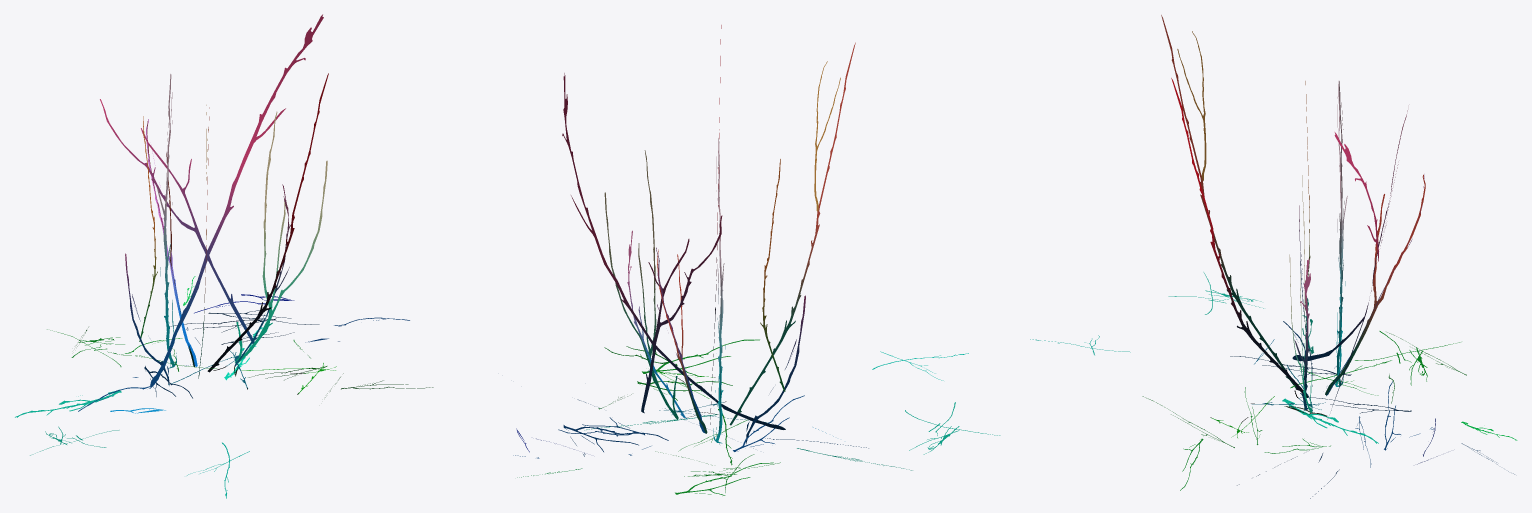
Rendered from Dead_Shrubs_vdknafgha_Raw_vdknafgha_VarD_LOD0.fbx.
3 renders of one model, left to right at view 1: azimuth 30°, elevation 25°; view 2: azimuth 150°, elevation 25°; view 3: azimuth 270°, elevation 25°, orthographic. The views are drawn at different scales.
Parts seen in each view (by area): view 1: _z6f6_VarD_High; view 2: _z6f6_VarD_High; view 3: _z6f6_VarD_High.
Boxes of the visible parts, <box> form: _z6f6_VarD_High: <box>15,14,433,498</box>; _z6f6_VarD_High: <box>513,25,1000,495</box>; _z6f6_VarD_High: <box>1030,15,1517,498</box>.
Bounding box in the file's own units: 42.26 × 32.66 × 39.71.
